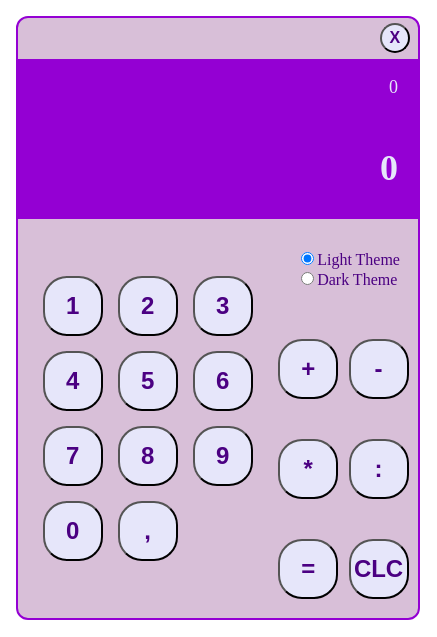
Test: Calculator › real calculations › adds two numbers
Click the button "3".
click(223, 306)  # box x1=193 y1=276 x2=253 y2=336
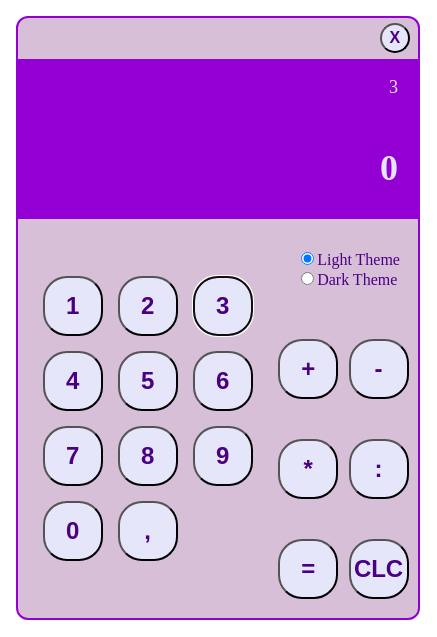
Click the button "+".
click(308, 370)  # box x1=278 y1=340 x2=338 y2=400
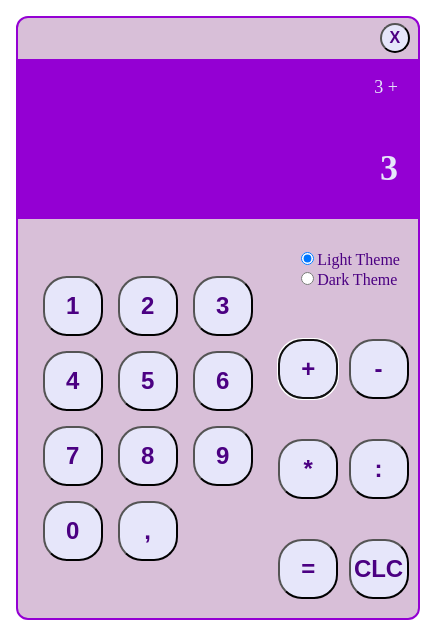
Click the button "5".
click(148, 382)  # box x1=118 y1=352 x2=178 y2=412
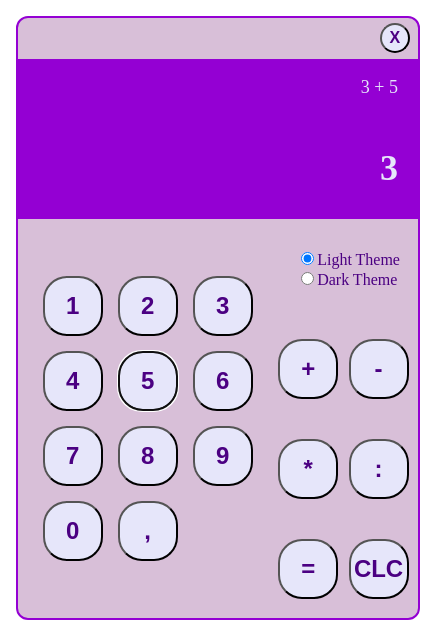
Click the button "=".
click(308, 569)  # box x1=278 y1=539 x2=338 y2=599
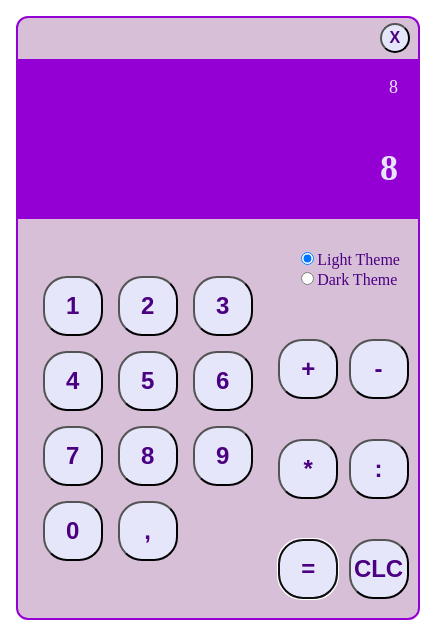
Expected: the heading named "result" reads "8", x1=380 y1=148 x2=398 y2=188
Expected: the text "3 + 5" is gone
